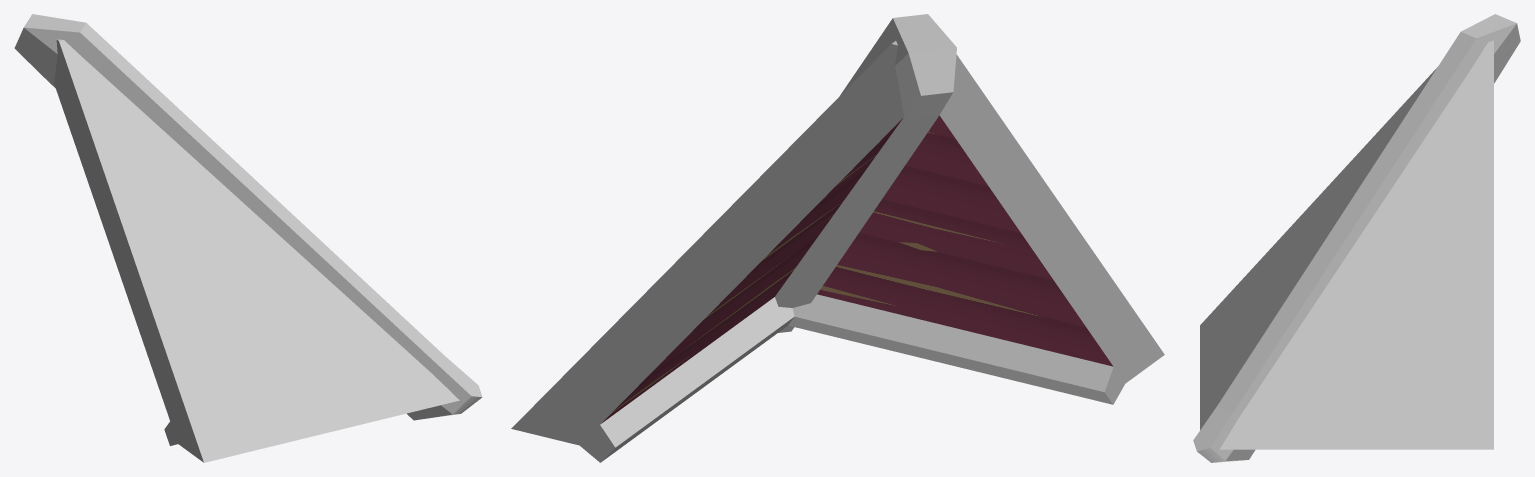
File: SM_Bld_Roof_S_Straight_Corner_Out_01.fbx
3 renders of one model, left to right at view 1: azimuth 30°, elevation 25°; view 2: azimuth 150°, elevation 25°; view 3: azimuth 270°, elevation 25°, orthographic. The views are drawn at different scales.
Visible parts, largest first — view 1: SM_Bld_Roof_S_Straight_Corner_Out_01; view 2: SM_Bld_Roof_S_Straight_Corner_Out_01; view 3: SM_Bld_Roof_S_Straight_Corner_Out_01.
Boxes of the visible parts, x1=… form: SM_Bld_Roof_S_Straight_Corner_Out_01: x1=14, y1=14, x2=482, y2=462; SM_Bld_Roof_S_Straight_Corner_Out_01: x1=511, y1=14, x2=1164, y2=462; SM_Bld_Roof_S_Straight_Corner_Out_01: x1=1193, y1=14, x2=1520, y2=462.
Bounding box in the file's own units: 152 × 167 × 152.
